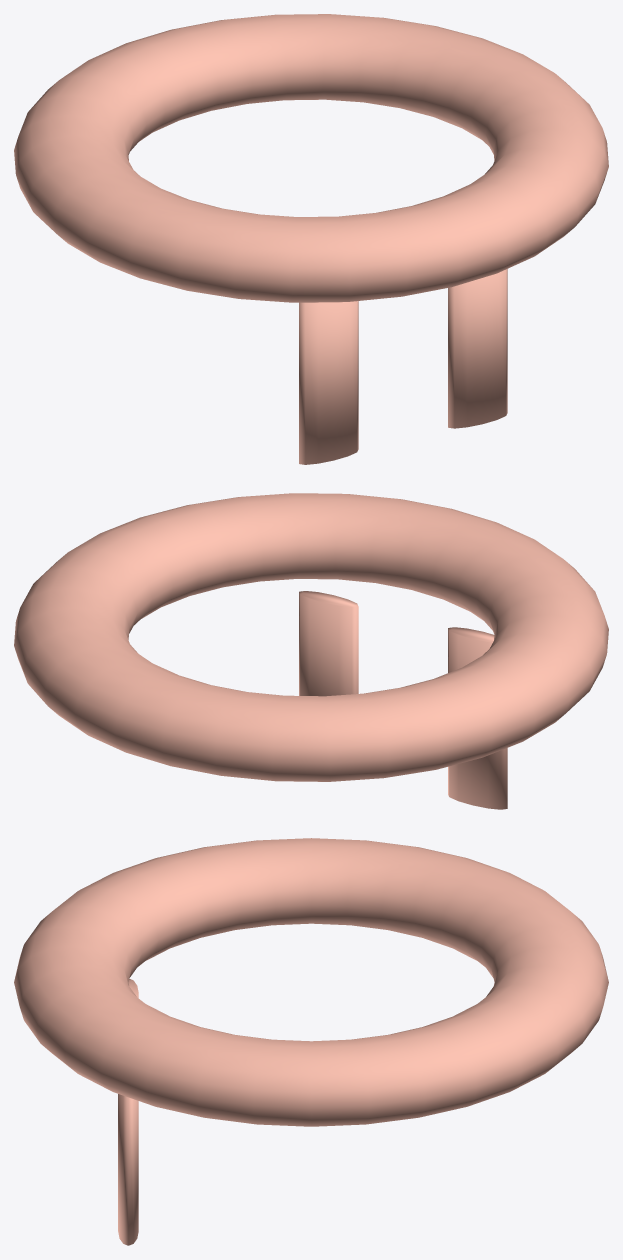
Rendered from scarf_cozy.glb.
3 views of the same model, one above another, from view 1: azimuth 30°, elevation 25°; view 2: azimuth 150°, elevation 25°; view 3: azimuth 270°, elevation 25° (orthographic).
Visible parts, largest first — view 1: scarf, Cylinder, Cylinder.001; view 2: scarf, Cylinder.001, Cylinder; view 3: scarf, Cylinder.001.
Boxes of the visible parts, x1,y1,x2,y2 form: scarf: (14, 14, 608, 302); Cylinder: (299, 301, 358, 464); Cylinder.001: (448, 269, 507, 428); scarf: (14, 493, 608, 781); Cylinder.001: (299, 591, 358, 696); Cylinder: (448, 627, 507, 809); scarf: (14, 838, 608, 1126); Cylinder.001: (118, 1094, 138, 1245).
Size of the model in its own units: 1.04 by 0.48 by 1.04.
